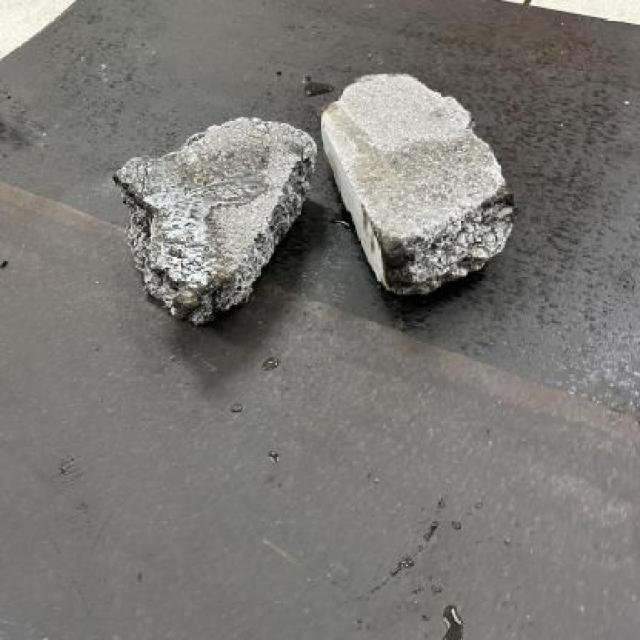Road Debris: (117, 140, 274, 286), (354, 130, 500, 232), (327, 100, 381, 152)
